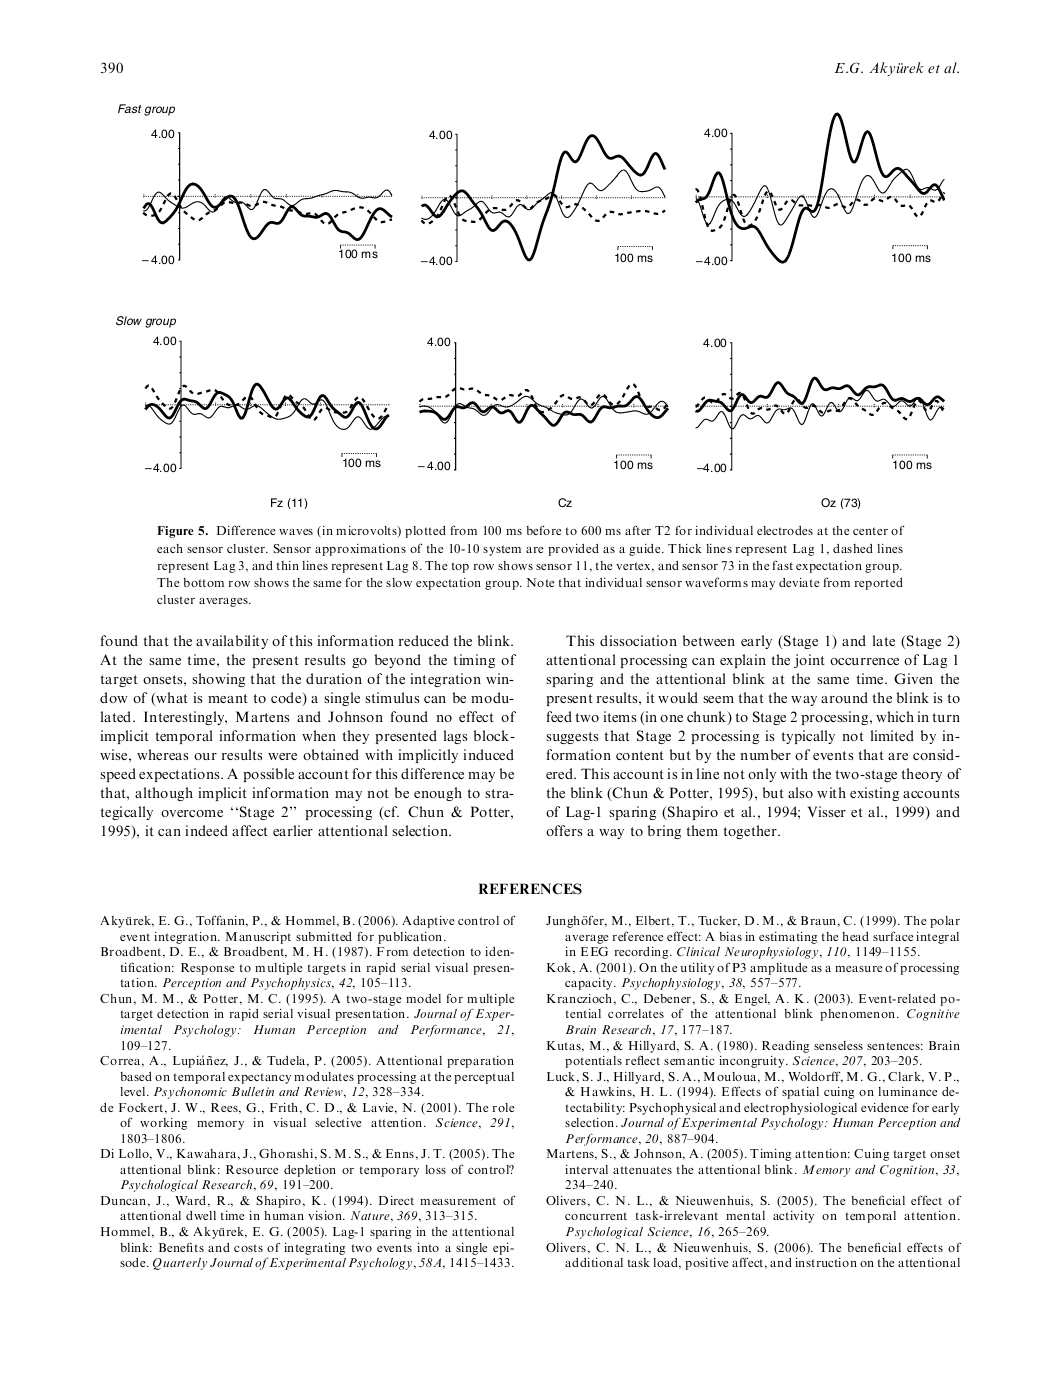figure: (694, 111, 944, 266), (142, 128, 392, 265), (418, 335, 668, 471), (695, 337, 944, 473), (420, 129, 666, 266), (144, 335, 389, 473)
